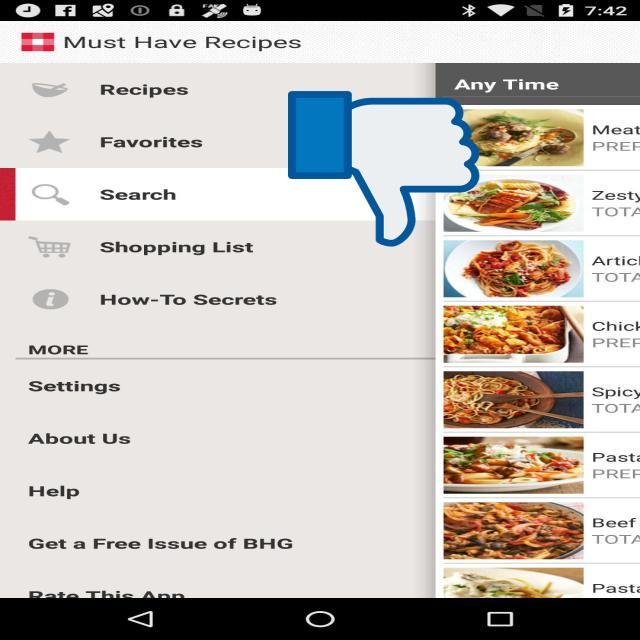obstruction: (288, 88, 479, 250)
